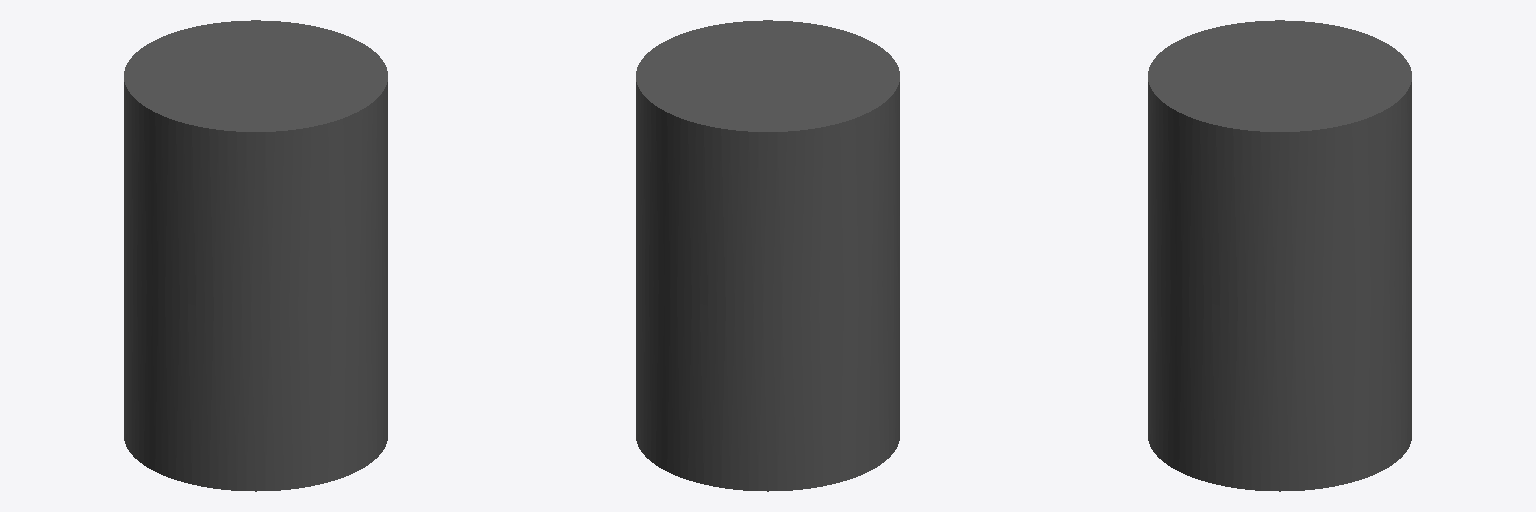
The robot description file, URDF, robot "trashbot":
<?xml version="1.0" ?>
<robot name="trashbot">

 <!-- Init colour -->
  <material name="black">
      <color rgba="0.0 0.0 0.0 1.0"/>
  </material>

  <material name="dark">
    <color rgba="0.3 0.3 0.3 1.0"/>
  </material>

  <material name="light_black">
    <color rgba="0.4 0.4 0.4 1.0"/>
  </material>

  <material name="blue">
    <color rgba="0.0 0.0 0.8 1.0"/>
  </material>

  <material name="green">
    <color rgba="0.0 0.8 0.0 1.0"/>
  </material>

  <material name="grey">
    <color rgba="0.5 0.5 0.5 1.0"/>
  </material>

  <material name="orange">
    <color rgba="1.0 0.4235 0.0392 1.0"/>
  </material>

  <material name="brown">
    <color rgba="0.8706 0.8118 0.7647 1.0"/>
  </material>

  <material name="red">
    <color rgba="0.8 0.0 0.0 1.0"/>
  </material>

  <material name="white">
    <color rgba="1.0 1.0 1.0 1.0"/>
  </material>

    <link name="base_footprint"/>

    <joint name="base_joint" type="fixed">
        <parent link="base_footprint"/>
        <child link="base_link" />
        <origin xyz="0 0 0.010" rpy="0 0 0" />
    </joint>

    <link name ="base_link">
        <visual>
            <origin xyz="-0.064 0 0.0" rpy="0 0 0"/>
            <geometry>
                <mesh filename="package://trashbot/meshes/trashbot_base_v1.stl" scale="0.001 0.001 0.001"/>
            </geometry>
            <material name="light_black"/>
        </visual>
    
        <collision>
            <origin xyz="0.064 0 0.047" rpy="0 0 0"/>
            <geometry>
                <box size="0.266 0.266 0.094"/>
            </geometry>
        </collision>

        <inertial>
            <origin xyz="0 0 0" rpy="0 0 0"/>
            <mass value="1.3729096e+00"/>
            <inertia ixx="8.7002718e-03" ixy="-4.7576583e-05" ixz="1.1160499e-04"
                iyy="8.6195418e-03" iyz="-3.5422299e-06"
                izz="1.4612727e-02" />
        </inertial>
    </link>

    <joint name="wheel_left_joint" type="continuous">
        <parent link="base_link"/>
        <child link="wheel_left_link"/>
        <origin xyz="0.0 0.144 0.023" rpy="1.57 0 0"/>
        <axis xyz="0 0 1"/>
    </joint>

    <link name="wheel_left_link">
        <visual>
            <origin xyz="0 0 0" rpy="1.57 0 0"/>
            <geometry>
                <mesh filename="package://trashbot/meshes/trashbot_wheel_v1.stl"/>
            </geometry>
            <material name="dark"/>
        </visual>

        <collision>
            <origin xyz="0 0 0" rpy="0 0 0"/>
            <geometry>
                <cylinder length="0.018" radius="0.033"/>
            </geometry>
        </collision>

        <inertial>
            <origin xyz="0 0 0" />
            <mass value="2.8498940e-02" />
            <inertia ixx="1.1175580e-05" ixy="-4.2369783e-11" ixz="-5.9381719e-09"
               iyy="1.1192413e-05" iyz="-1.4400107e-11"
               izz="2.0712558e-05" />
        </inertial>
    </link>

    <joint name="wheel_right_joint" type="continuous">
        <parent link="base_link"/>
        <child link="wheel_right_link"/>
        <origin xyz="0.0 -0.144 0.023" rpy="-1.57 0 0"/>
        <axis xyz="0 0 1"/>
    </joint>

    <link name="wheel_right_link">
        <visual>
            <origin xyz="0 0 0" rpy="1.57 0 0"/>
            <geometry>
                <mesh filename="package://trashbot/meshes/trashbot_wheel_v1.stl"/>
            </geometry>
            <material name="dark"/>
        </visual>

        <collision>
            <origin xyz="0 0 0" rpy="0 0 0"/>
            <geometry>
                <cylinder length="0.018" radius="0.033"/>
            </geometry>
        </collision>

        <inertial>
            <origin xyz="0 0 0" />
            <mass value="2.8498940e-02" />
            <inertia ixx="1.1175580e-05" ixy="-4.2369783e-11" ixz="-5.9381719e-09"
               iyy="1.1192413e-05" iyz="-1.4400107e-11"
               izz="2.0712558e-05" />
        </inertial>
    </link>

    <joint name="caster_back_right_joint" type="fixed">
        <parent link="base_link"/>
        <child link="caster_back_right_link"/>
        <origin xyz="-0.177 -0.064 -0.004" rpy="-1.57 0 0"/>
    </joint>

    <link name="caster_back_right_link">
        <collision>
            <origin xyz="0 0.001 0" rpy="0 0 0"/>
            <geometry>
                <box size="0.030 0.009 0.020"/>
            </geometry>
        </collision>

        <inertial>
            <origin xyz="0 0 0" />
            <mass value="0.005" />
            <inertia ixx="0.001" ixy="0.0" ixz="0.0"
               iyy="0.001" iyz="0.0"
               izz="0.001" />
        </inertial>
    </link>

    <joint name="caster_back_left_joint" type="fixed">
        <parent link="base_link"/>
        <child link="caster_back_left_link"/>
        <origin xyz="-0.177 0.064 -0.004" rpy="-1.57 0 0"/>
    </joint>

    <link name="caster_back_left_link">
        <collision>
            <origin xyz="0 0.001 0" rpy="0 0 0"/>
            <geometry>
                <box size="0.030 0.009 0.020"/>
            </geometry>
        </collision>

        <inertial>
            <origin xyz="0 0 0" />
            <mass value="0.005" />
            <inertia ixx="0.001" ixy="0.0" ixz="0.0"
               iyy="0.001" iyz="0.0"
               izz="0.001" />
        </inertial>
    </link>

</robot>

--- What the picture shows (computed from the rendered views, not written in the file) ---
The picture shows the robot from 3 angles, left to right: view 1: azimuth 30°, elevation 25°; view 2: azimuth 150°, elevation 25°; view 3: azimuth 270°, elevation 25°; orthographic projection.
Model trashbot with 6 links and 5 joints (2 continuous, 3 fixed), rooted at base_footprint, posed every joint at zero.
Links seen in each view (by area): view 1: base_link; view 2: base_link; view 3: base_link.
Link boxes in pixels (x1,y1,x2,y2): base_link: [124, 20, 387, 491]; base_link: [636, 20, 899, 491]; base_link: [1148, 20, 1411, 491].
Bounding box of the posed robot: 0.2 × 0.2 × 0.3 m (x, y, z).
Meshes: 2 distinct files referenced, 1 mesh visuals loaded (1 binary STL); not drawn: 2 (reference not matched to a file when rendering).